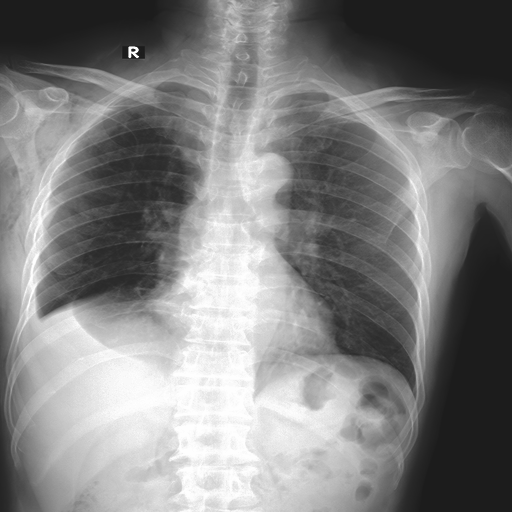Calcification: (18, 295, 129, 366), (21, 288, 51, 334)
Consolidation: (257, 153, 293, 193)
ILD: (73, 286, 159, 320)
Other lesion: (3, 87, 76, 240)
Pleural effusion: (18, 295, 129, 366), (21, 288, 51, 334)
Pleural thickening: (73, 286, 159, 320)
